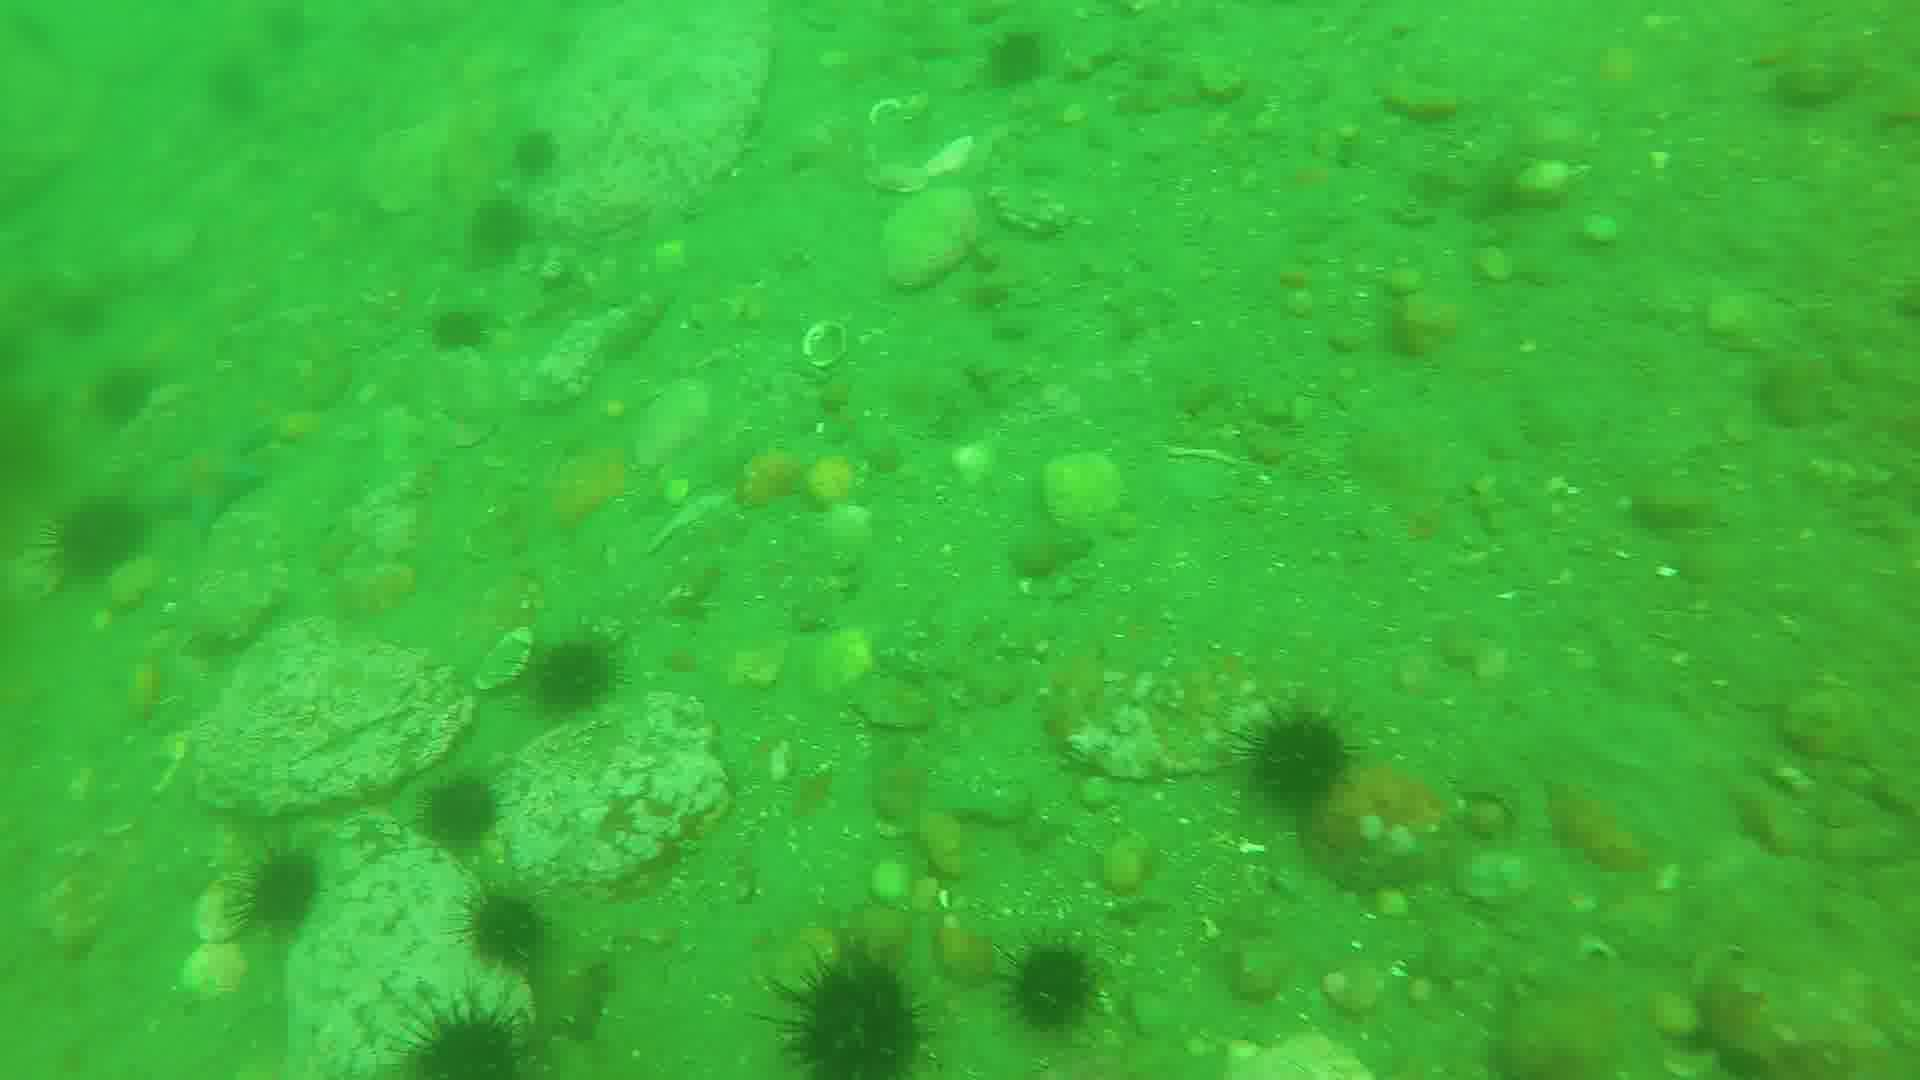echinus: (758, 935, 931, 1080), (1246, 707, 1352, 808), (44, 502, 158, 585), (1011, 932, 1106, 1029), (405, 1005, 525, 1080), (458, 885, 554, 975), (425, 781, 522, 861), (237, 848, 331, 928), (537, 640, 625, 720), (985, 28, 1054, 88), (434, 294, 500, 349), (469, 203, 531, 253), (96, 363, 160, 407), (521, 135, 572, 173)
scallop: (1458, 848, 1545, 913), (800, 313, 861, 375)
starfish: (167, 430, 280, 545)
